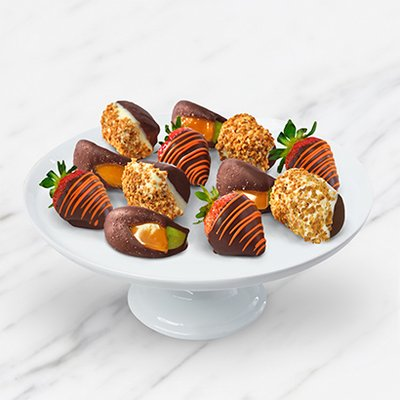curry: (11, 98, 397, 395)
salad: (103, 206, 193, 259)
sushi: (268, 168, 341, 244), (202, 191, 267, 257), (120, 160, 191, 220)
